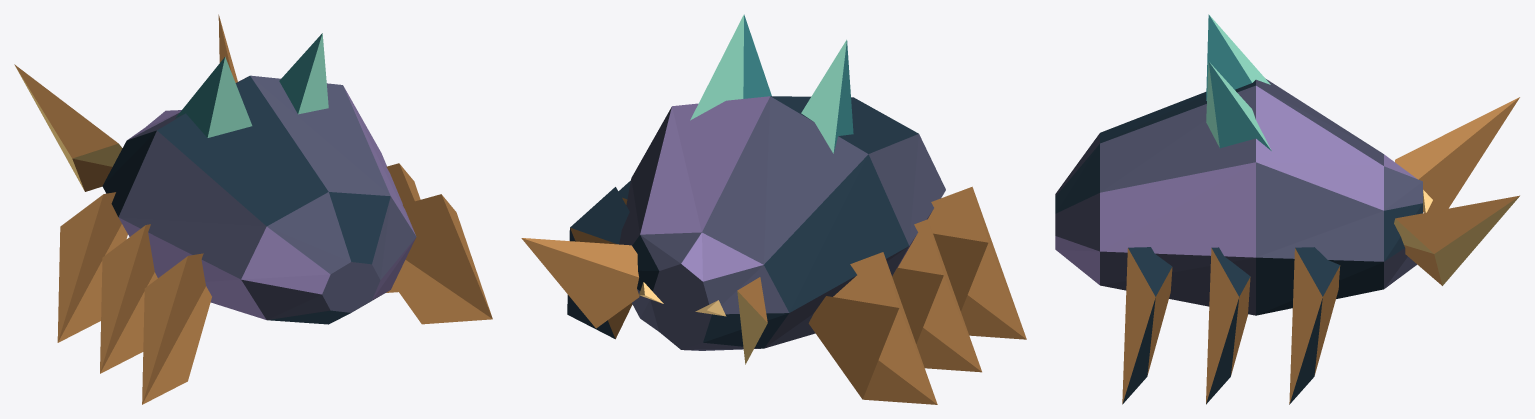
The model's file is Shellwarden.obj.
3 renders of one model, left to right at view 1: azimuth 30°, elevation 25°; view 2: azimuth 150°, elevation 25°; view 3: azimuth 270°, elevation 25°, orthographic. The views are drawn at different scales.
Visible parts, largest first — view 1: Shellwarden; view 2: Shellwarden; view 3: Shellwarden.
Boxes of the visible parts, box(x1,y1,x2,y2) form: Shellwarden: box(14, 14, 492, 404); Shellwarden: box(521, 14, 1026, 404); Shellwarden: box(1055, 14, 1519, 404).
Bounding box in the file's own units: 7.2 × 5.6 × 8.35.
